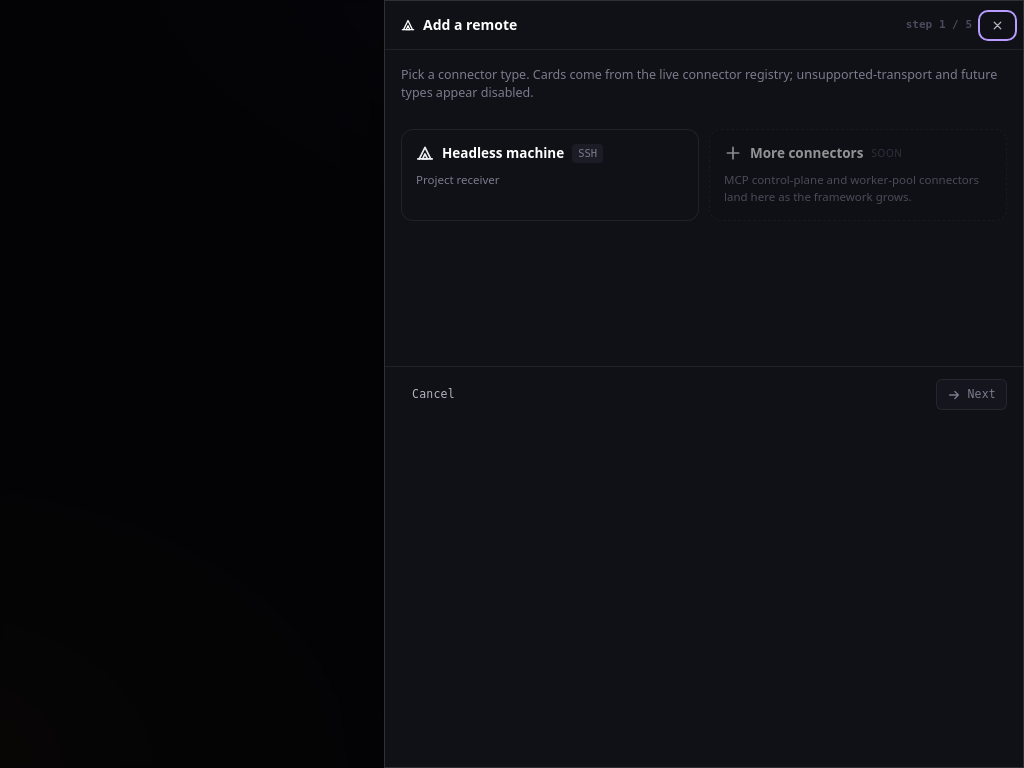
Scenario: selects a separate flow using catalog metadata
Click the text "Headless machine": (503, 153) x1=442 y1=144 x2=564 y2=163
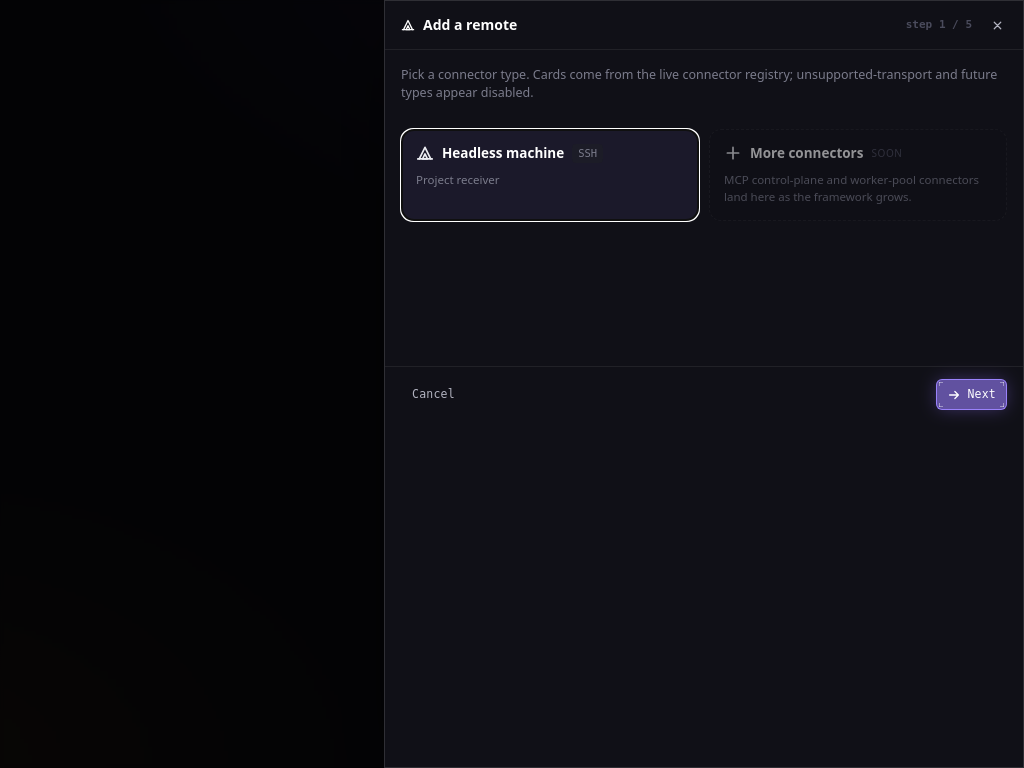
Click the button "Next": (972, 395) x1=936 y1=379 x2=1007 y2=410
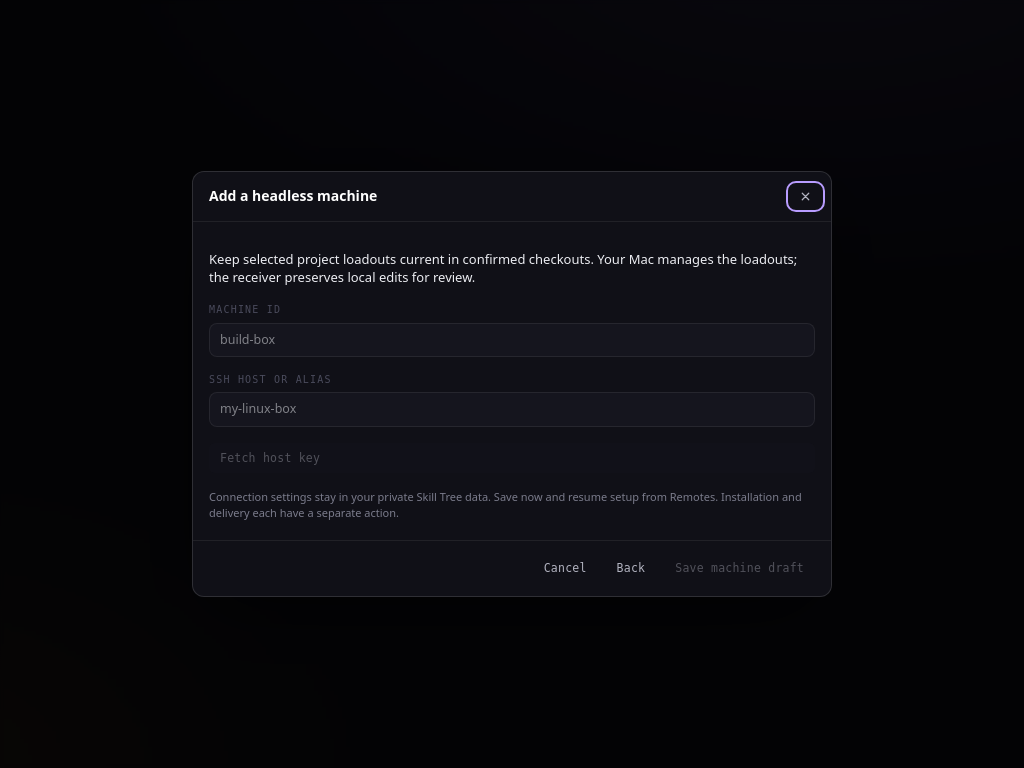
Expected: the dialog "Add a headless machine" is shown, x1=192 y1=171 x2=832 y2=597
